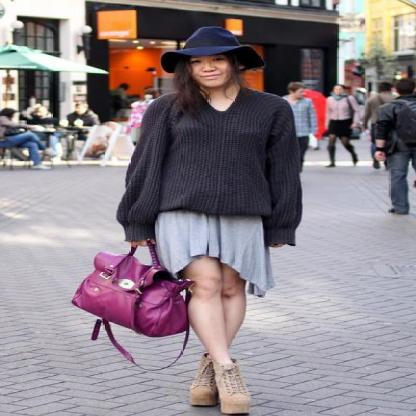bag: (72, 252, 194, 364)
hat: (161, 26, 255, 72)
jacket: (116, 91, 308, 251)
shoe: (176, 362, 249, 416)
skirt: (155, 212, 276, 297)
